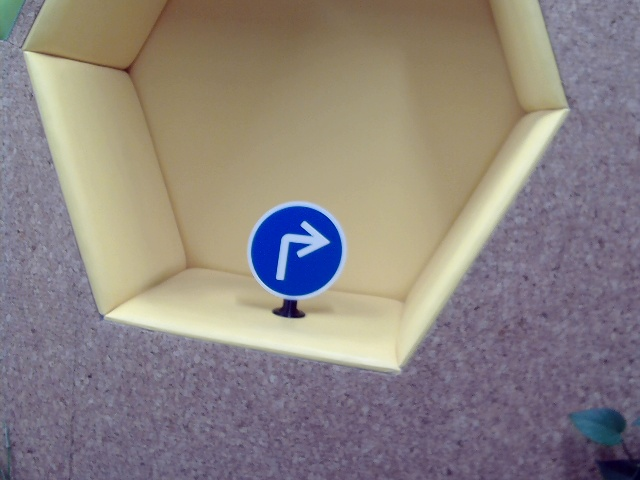turn_right: (268, 222, 327, 285)
